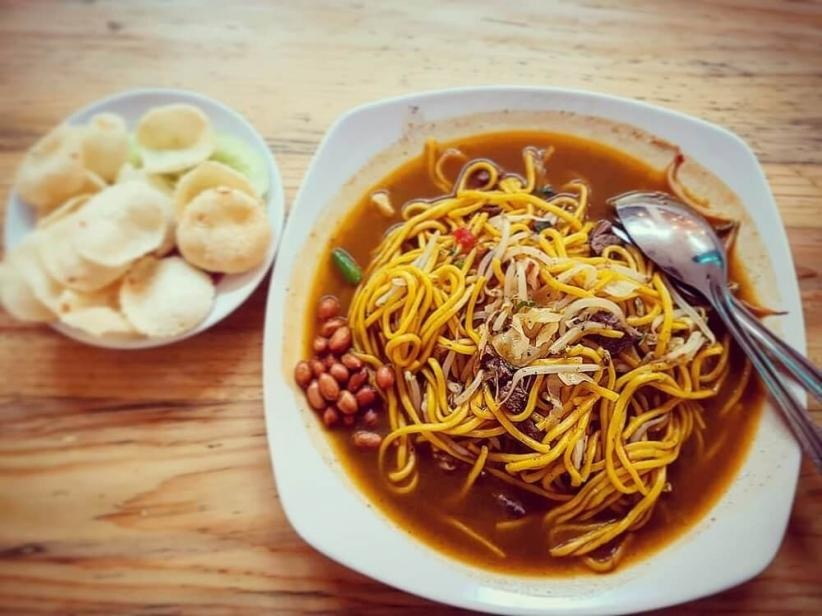mie_aceh: (357, 165, 729, 569)
